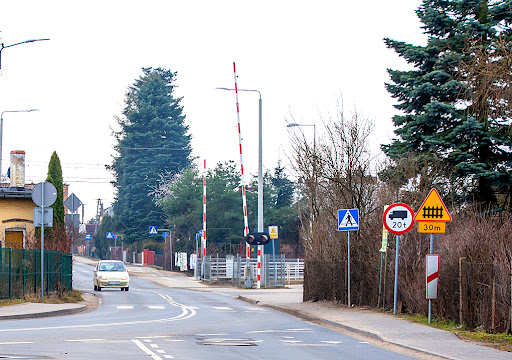a9: (421, 204, 445, 219)
